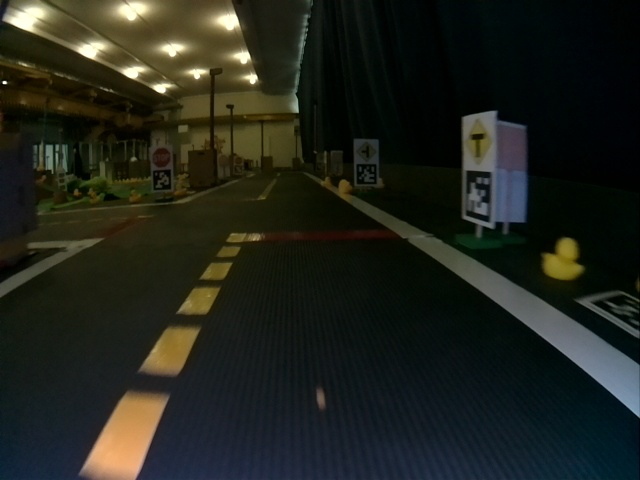Duckie: (542, 238, 583, 280), (340, 179, 353, 194), (321, 177, 332, 187)
Intersection sign: (465, 119, 492, 165), (358, 141, 378, 161)
QR code: (576, 289, 639, 338), (465, 170, 490, 222), (359, 164, 378, 184)
Stop sign: (154, 147, 171, 167)
